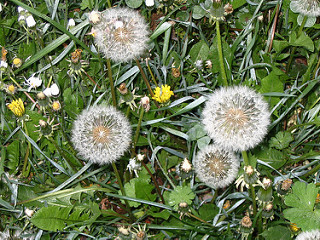dandelion white: (199, 84, 272, 154), (70, 103, 132, 165), (91, 7, 150, 62), (192, 144, 240, 189), (288, 1, 320, 18)
dandelion yellow: (151, 84, 174, 106)
